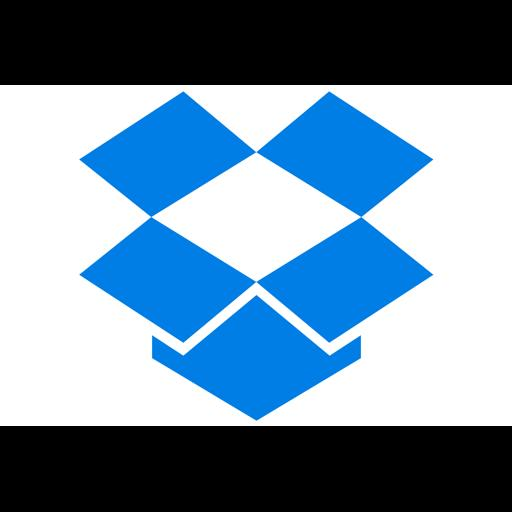Dropbox: (0, 85, 512, 426)
